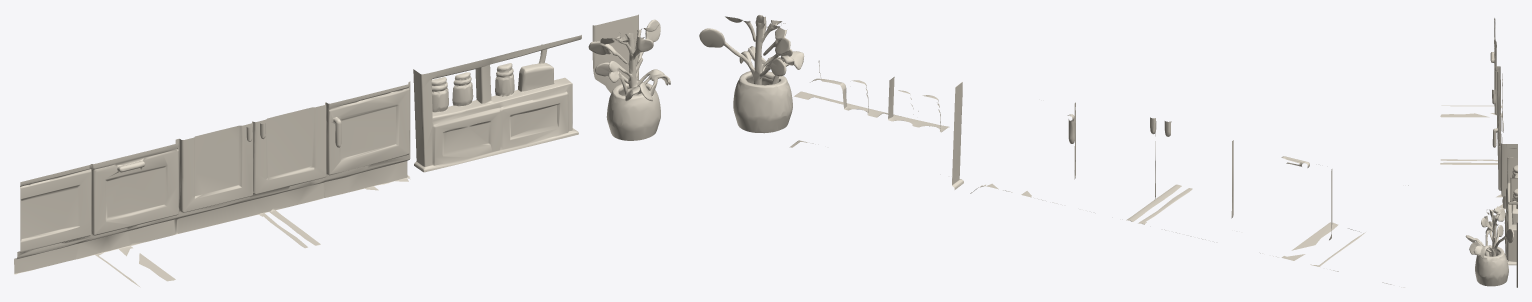
File: kitchen_counter.glb
The picture shows the model from 3 angles, left to right: view 1: azimuth 30°, elevation 25°; view 2: azimuth 150°, elevation 25°; view 3: azimuth 270°, elevation 25°; orthographic projection. The views are drawn at different scales.
Bounding box in the file's own units: 1.42 × 0.201 × 0.2175.
